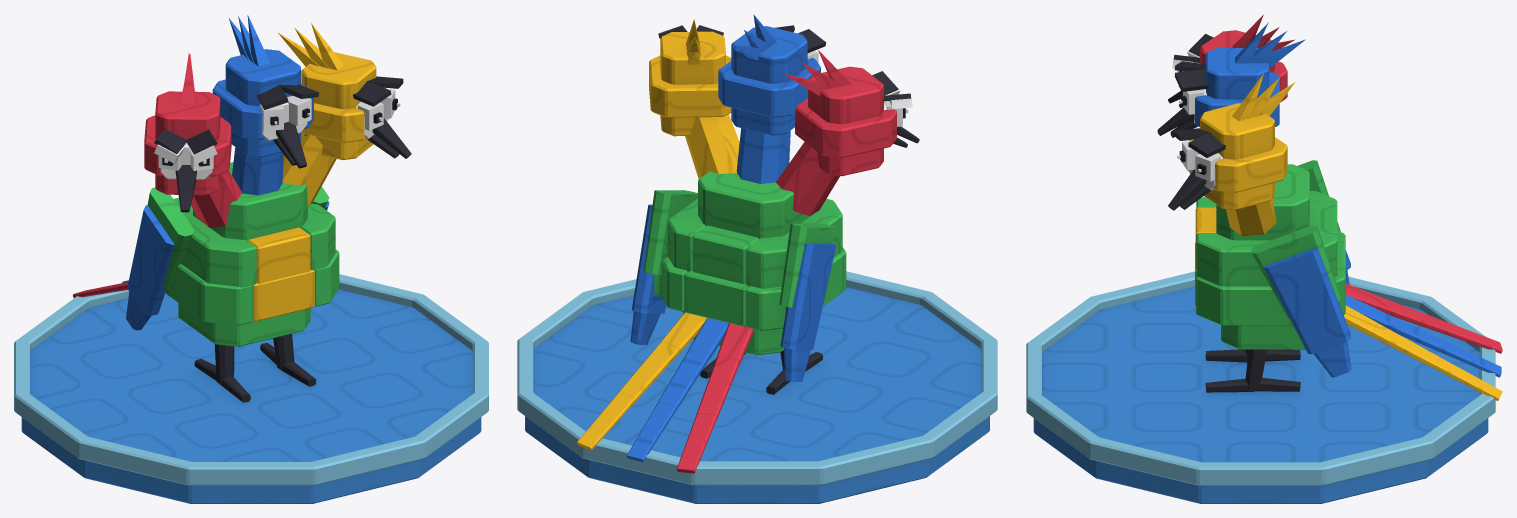
File: ThreeHeadParrot.fbx
3 views of the same model, side by side, from view 1: azimuth 30°, elevation 25°; view 2: azimuth 150°, elevation 25°; view 3: azimuth 270°, elevation 25° (orthographic). The views are drawn at different scales.
Parts seen in each view (by area): view 1: Art_ThreeHeadParrot_Stand, Art_ThreeHeadParrot_Body, Art_ThreeHeadParrot_HeadM, Art_ThreeHeadParrot_HeadL, Art_ThreeHeadParrot_HeadR; view 2: Art_ThreeHeadParrot_Stand, Art_ThreeHeadParrot_Body, Art_ThreeHeadParrot_HeadR, Art_ThreeHeadParrot_HeadM, Art_ThreeHeadParrot_Tail, Art_ThreeHeadParrot_HeadL; view 3: Art_ThreeHeadParrot_Stand, Art_ThreeHeadParrot_Body, Art_ThreeHeadParrot_HeadL, Art_ThreeHeadParrot_Tail, Art_ThreeHeadParrot_HeadM, Art_ThreeHeadParrot_HeadR.
Part boxes in pixels (box(x1,y1,x2,y2)): Art_ThreeHeadParrot_Stand: box(14, 274, 488, 503); Art_ThreeHeadParrot_Body: box(126, 162, 339, 346); Art_ThreeHeadParrot_HeadM: box(212, 15, 319, 195); Art_ThreeHeadParrot_HeadL: box(278, 23, 411, 205); Art_ThreeHeadParrot_HeadR: box(144, 53, 241, 227); Art_ThreeHeadParrot_Stand: box(517, 271, 997, 503); Art_ThreeHeadParrot_Body: box(630, 171, 846, 381); Art_ThreeHeadParrot_HeadR: box(776, 50, 919, 215); Art_ThreeHeadParrot_HeadM: box(718, 14, 826, 183); Art_ThreeHeadParrot_Tail: box(576, 312, 754, 473); Art_ThreeHeadParrot_HeadL: box(649, 19, 739, 178); Art_ThreeHeadParrot_Stand: box(1026, 271, 1495, 503); Art_ThreeHeadParrot_Body: box(1195, 160, 1351, 377); Art_ThreeHeadParrot_HeadL: box(1168, 73, 1295, 236); Art_ThreeHeadParrot_Tail: box(1344, 283, 1502, 400); Art_ThreeHeadParrot_HeadM: box(1157, 22, 1305, 137); Art_ThreeHeadParrot_HeadR: box(1168, 14, 1294, 107).
Size of the model in its own units: 2.99 by 2.72 by 3.04.
